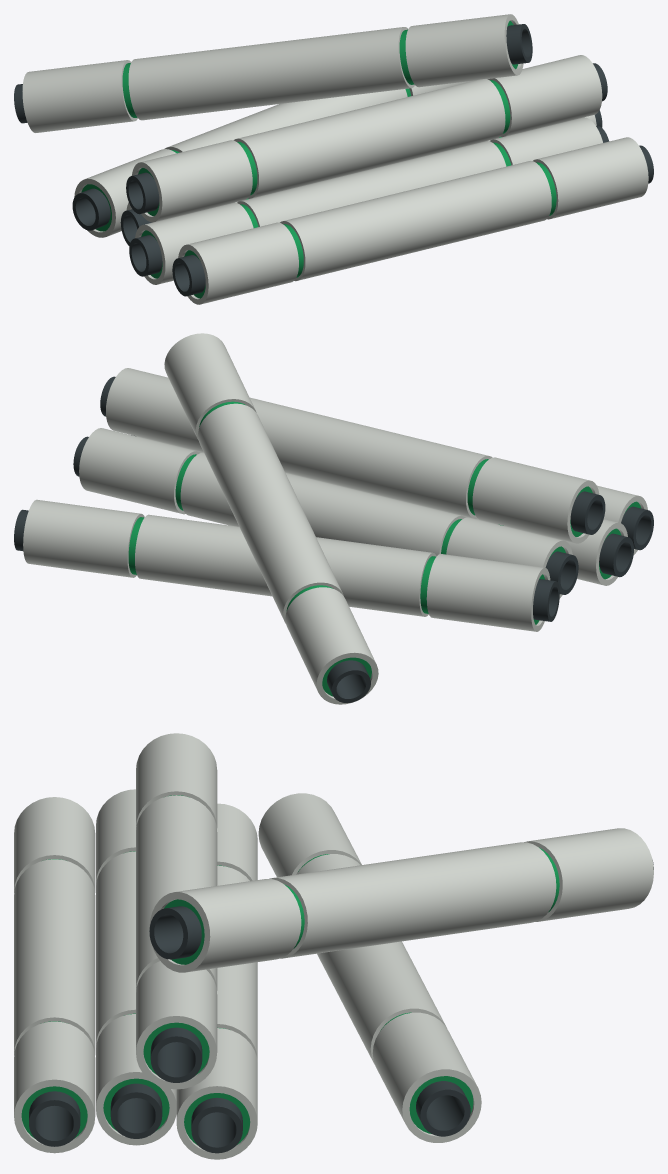
File: fant_plastic.obj
The picture shows the model from 3 angles, top to bottom: view 1: azimuth 30°, elevation 25°; view 2: azimuth 150°, elevation 25°; view 3: azimuth 270°, elevation 25°; orthographic projection. The views are drawn at different scales.
Parts seen in each view (by area): view 1: fant_plastic_Cylinder; view 2: fant_plastic_Cylinder; view 3: fant_plastic_Cylinder.
Boxes of the visible parts, x1,y1,x2,y2 form: fant_plastic_Cylinder: (14,14,653,304); fant_plastic_Cylinder: (14,333,653,704); fant_plastic_Cylinder: (14,733,653,1159).
Bounding box in the file's own units: 1.9 × 0.6016 × 1.65.
